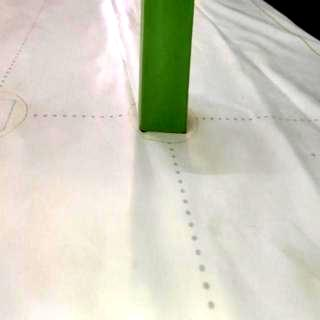greenbox: (140, 0, 196, 133)
